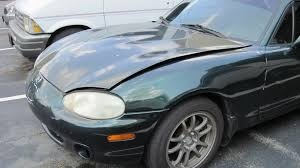Dent: (120, 95, 171, 117)
Scratch: (224, 95, 241, 138), (26, 82, 43, 103)
